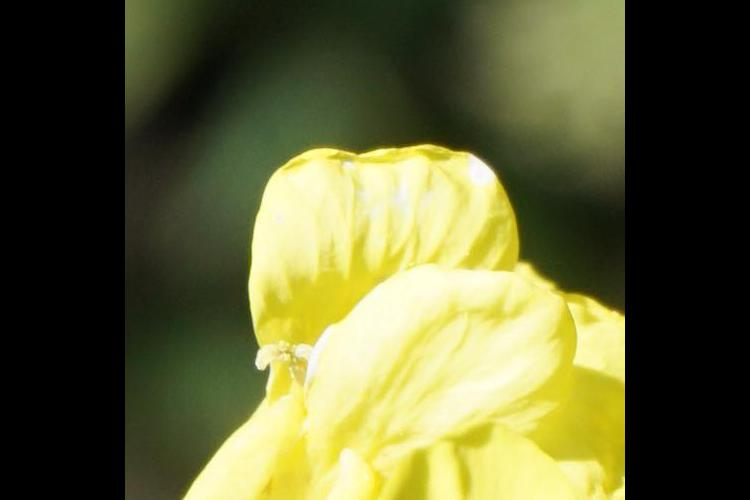yellow: (226, 172, 614, 500)
